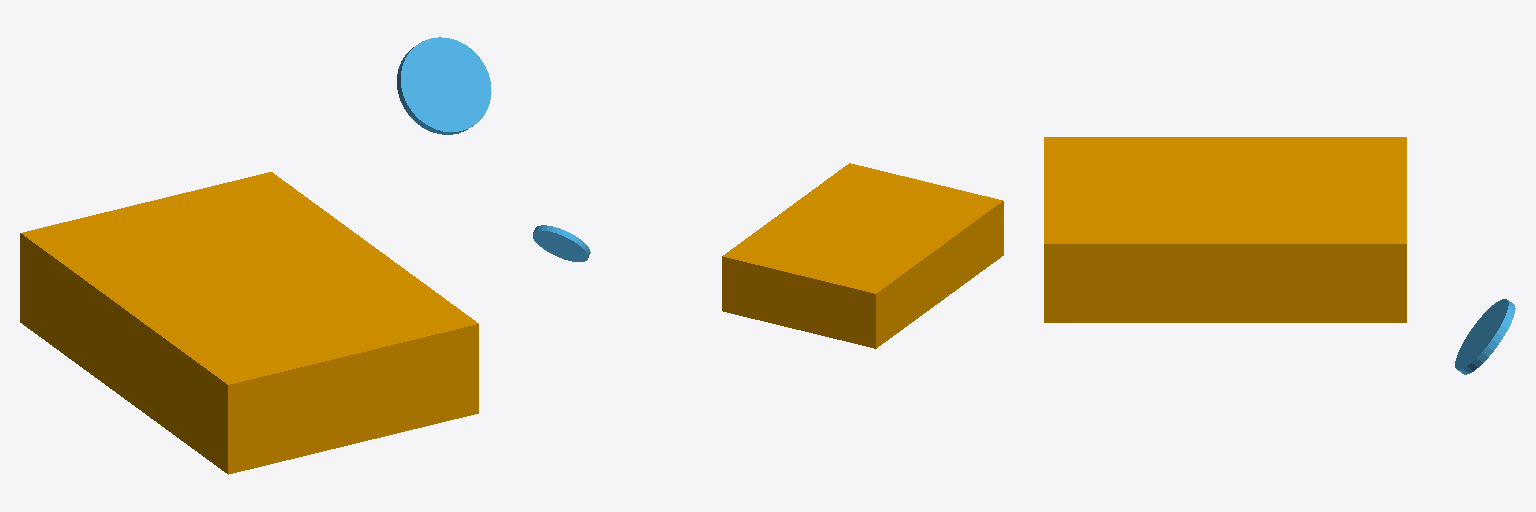
The robot description file, URDF, robot "ma1":
<?xml version="1.0"?>
<robot name="ma1">
  <link name="base_link">
    <visual>
      <geometry>
        <box size="2.93 4.2 1.0"/>
      </geometry>
      <origin rpy="0 0 0" xyz="0 0 0.5"/>
    </visual>
  </link>

  <link name="left_wheel">
    <visual>
      <geometry>
        <cylinder length="0.1" radius="0.5"/>
      </geometry>
      <origin rpy="0.9 0 0" xyz="2 1.5 0.5"/>
    </visual>
  </link>

  <joint name="left_wheel_joint" type="continuous">
    <parent link="base_link"/>
    <child link="left_wheel"/>
    <origin rpy="0 0 0" xyz="2 1.5 0.5"/>
  </joint>

</robot>

--- What the picture shows (computed from the rendered views, not written in the file) ---
The picture shows the robot from 3 angles, left to right: view 1: azimuth 30°, elevation 25°; view 2: azimuth 150°, elevation 25°; view 3: azimuth 270°, elevation 25°; orthographic projection.
Robot: ma1 — 2 links, 1 joints (1 continuous); root link base_link; default pose: all joints at 0.
Links seen in each view (by area): view 1: base_link, left_wheel; view 2: base_link, left_wheel; view 3: base_link, left_wheel.
Link boxes in pixels (box(x1,y1,x2,y2)): base_link: box(20, 172, 478, 474); left_wheel: box(397, 37, 491, 134); base_link: box(722, 163, 1003, 348); left_wheel: box(533, 225, 590, 261); base_link: box(1044, 137, 1406, 322); left_wheel: box(1455, 299, 1515, 374).
Bounding box of the posed robot: 5.96 × 5.45 × 1.42 m (x, y, z).
Geometry: primitives only (box / cylinder / sphere), no mesh files.
